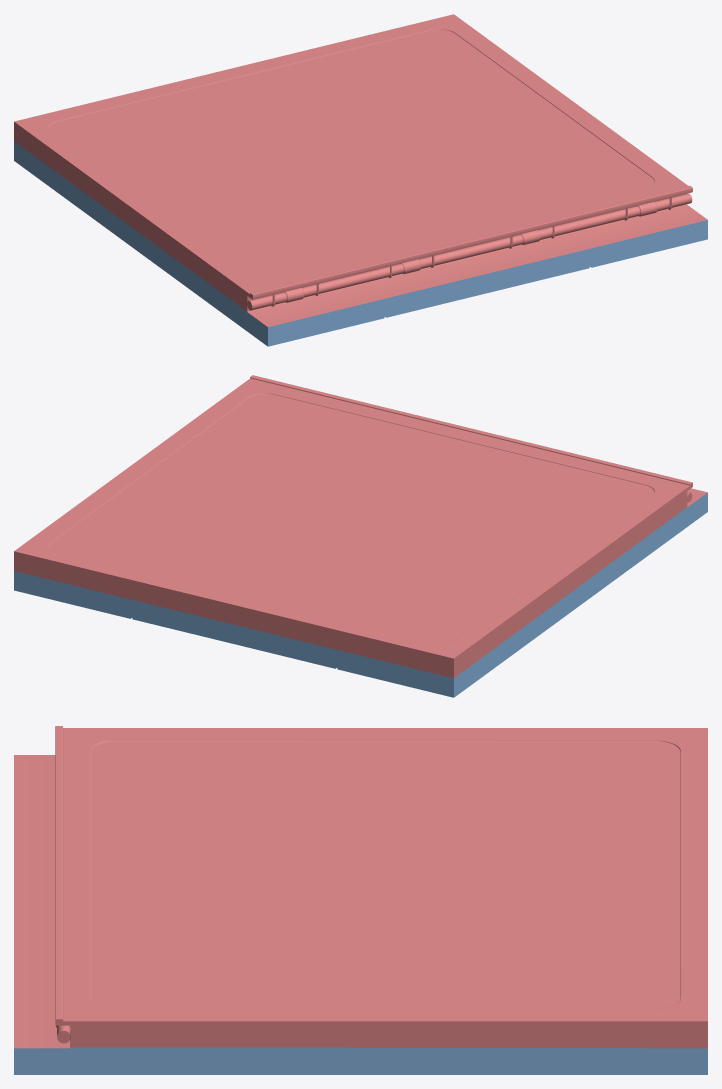
The model's file is Floor02.fbx.
3 views of the same model, one above another, from view 1: azimuth 30°, elevation 25°; view 2: azimuth 150°, elevation 25°; view 3: azimuth 270°, elevation 25° (orthographic). The views are drawn at different scales.
Parts seen in each view (by area): view 1: SM_Floor02; view 2: SM_Floor02; view 3: SM_Floor02.
Boxes of the visible parts, x1,y1,x2,y2 form: SM_Floor02: (14,14,707,346); SM_Floor02: (14,375,707,697); SM_Floor02: (14,726,707,1074).
Bounding box in the file's own units: 3.5 × 0.309 × 3.5.
